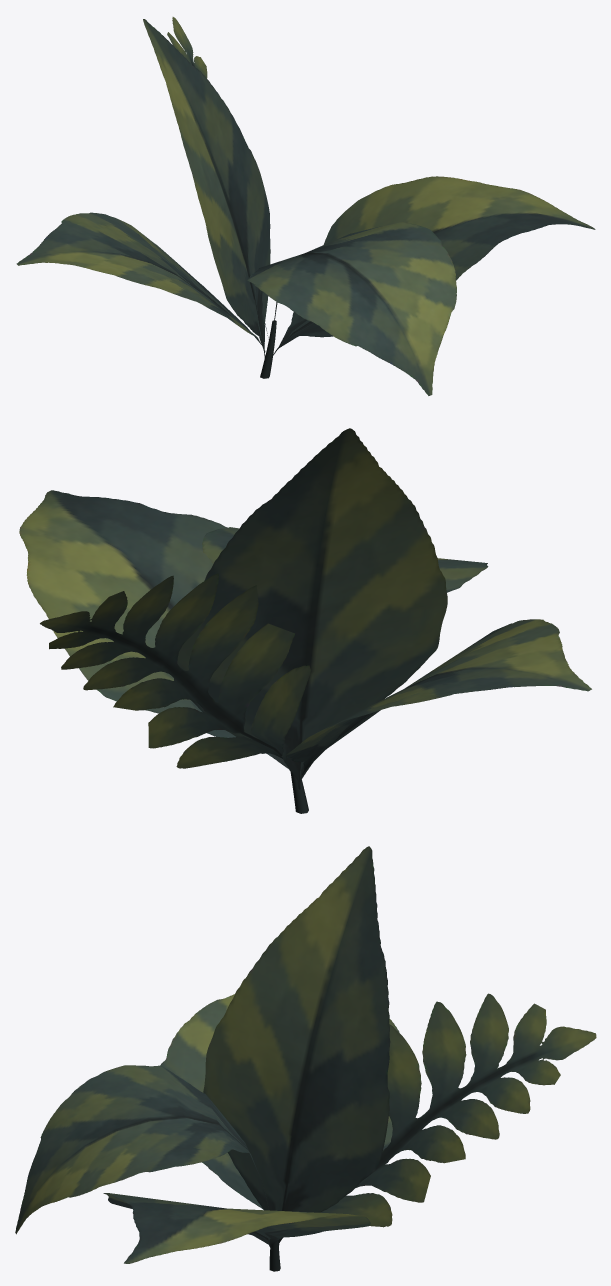
File: SM_FR_BushCompact.fbx
3 views of the same model, one above another, from view 1: azimuth 30°, elevation 25°; view 2: azimuth 150°, elevation 25°; view 3: azimuth 270°, elevation 25° (orthographic). The views are drawn at different scales.
Parts seen in each view (by area): view 1: SM_FR_BushCompact; view 2: SM_FR_BushCompact; view 3: SM_FR_BushCompact.
Boxes of the visible parts, x1,y1,x2,y2 form: SM_FR_BushCompact: (16,17,595,395); SM_FR_BushCompact: (19,428,591,813); SM_FR_BushCompact: (15,846,596,1271).
Size of the model in its own units: 1.71 by 1.13 by 1.57.
1 material, 1 textured.
